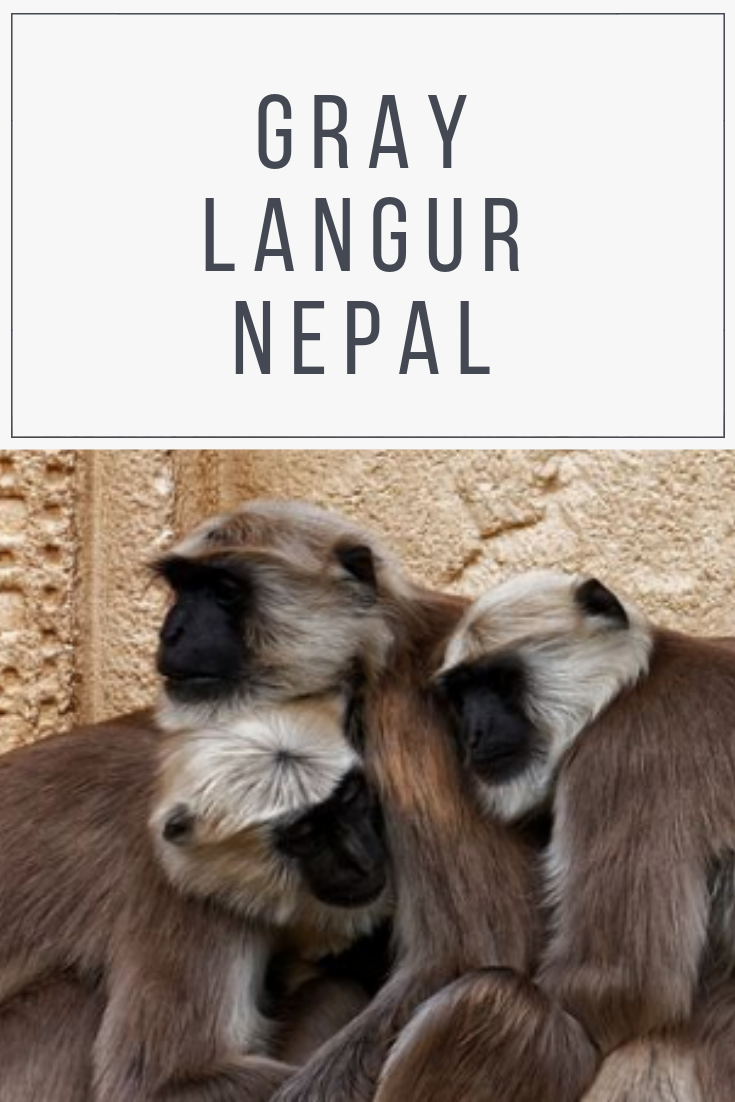monkey: (147, 495, 566, 1102), (420, 555, 735, 1102), (1, 686, 390, 1102)
